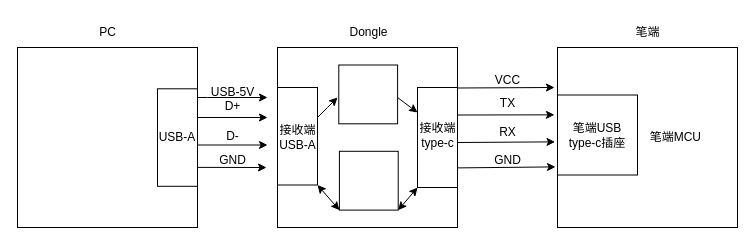
Image size: 755x245. Some labels were removed from this diagram. Each missing label, with the centre of its shape:
"MCU" belongs at pixel 368 180.
"UART IC" belongs at pixel 368 94.
